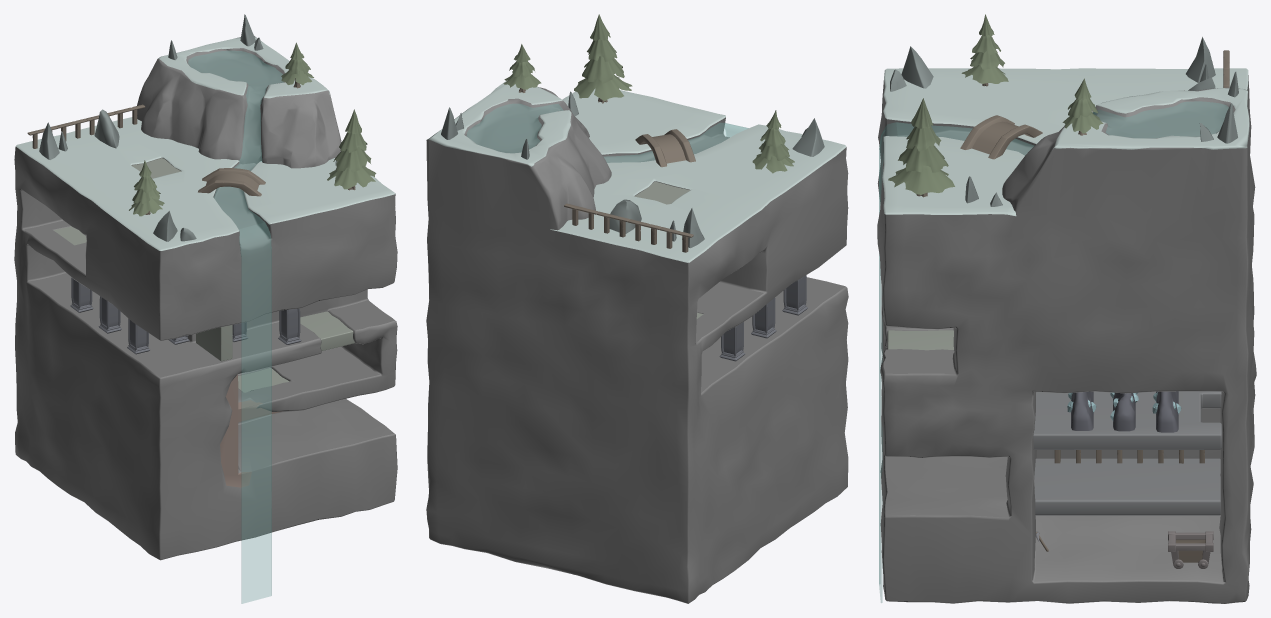
File: Level1 Deprecated.fbx
3 views of the same model, side by side, from view 1: azimuth 30°, elevation 25°; view 2: azimuth 150°, elevation 25°; view 3: azimuth 270°, elevation 25° (orthographic). The views are drawn at different scales.
Parts seen in each view (by area): view 1: Terrain, polySurface13, Part2, Part1, Tree1, Breakable3, Bridge, Tree2, Breakable2, Breakable5, Tree3, Pillar9 (+4 smaller); view 2: Terrain, polySurface13, Part1, Tree1, Bridge, Tree2, Tree3, Pillar7, Pillar5, Pillar6, Breakable6, Spike4 (+1 smaller); view 3: Terrain, polySurface13, Platform2, Platform1, Part1, Tree1, Bridge, Tree2, Part2, Minecart, Breakable3, Tree3 (+5 smaller).
Part boxes in pixels (left/top/right/bottom): Terrain: left=14, top=36, right=397, bottom=560; polySurface13: left=15, top=117, right=395, bottom=471; Part2: left=239, top=222, right=271, bottom=603; Part1: left=188, top=51, right=283, bottom=228; Tree1: left=327, top=109, right=376, bottom=190; Breakable3: left=300, top=311, right=354, bottom=350; Bridge: left=198, top=168, right=265, bottom=196; Tree2: left=129, top=160, right=164, bottom=216; Breakable2: left=196, top=325, right=232, bottom=361; Breakable5: left=238, top=368, right=289, bottom=392; Tree3: left=281, top=42, right=313, bottom=88; Pillar9: left=278, top=308, right=301, bottom=344; Terrain: left=426, top=80, right=848, bottom=603; polySurface13: left=550, top=88, right=846, bottom=392; Part1: left=467, top=104, right=746, bottom=162; Tree1: left=574, top=14, right=632, bottom=103; Bridge: left=635, top=129, right=695, bottom=167; Tree2: left=752, top=110, right=794, bottom=173; Tree3: left=503, top=44, right=541, bottom=92; Pillar7: left=782, top=275, right=807, bottom=315; Pillar5: left=719, top=322, right=745, bottom=361; Pillar6: left=751, top=298, right=776, bottom=338; Breakable6: left=635, top=181, right=689, bottom=204; Spike4: left=609, top=199, right=641, bottom=233; Terrain: left=877, top=75, right=1256, bottom=603; polySurface13: left=882, top=68, right=1248, bottom=517; Platform2: left=1034, top=458, right=1220, bottom=515; Platform1: left=1033, top=391, right=1222, bottom=449; Part1: left=896, top=101, right=1228, bottom=154; Tree1: left=888, top=98, right=954, bottom=197; Bridge: left=960, top=115, right=1042, bottom=159; Tree2: left=961, top=14, right=1008, bottom=86; Part2: left=879, top=122, right=897, bottom=602; Minecart: left=1168, top=531, right=1213, bottom=568; Breakable3: left=887, top=330, right=953, bottom=350; Tree3: left=1062, top=78, right=1103, bottom=135.
Bounding box in the file's own units: 20.2 × 36.47 × 21.28.
